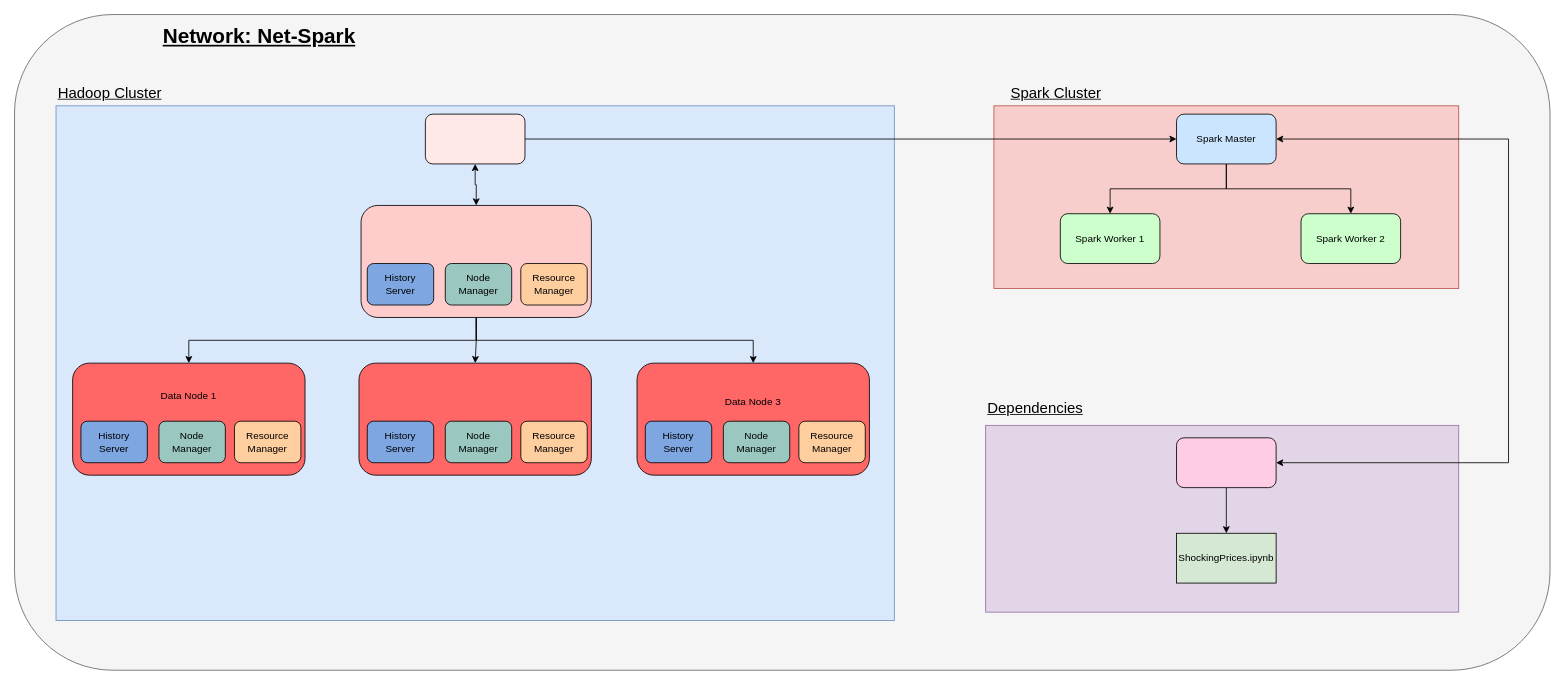
This 1565x685 diagram has some shape labels left out. Each missing label, with the box of its shape:
Data Node 2: (358, 362, 591, 475)
HFDS Client: (425, 113, 525, 164)
Jupyter Notebook: (1176, 437, 1276, 488)
Name Node: (360, 205, 591, 317)
